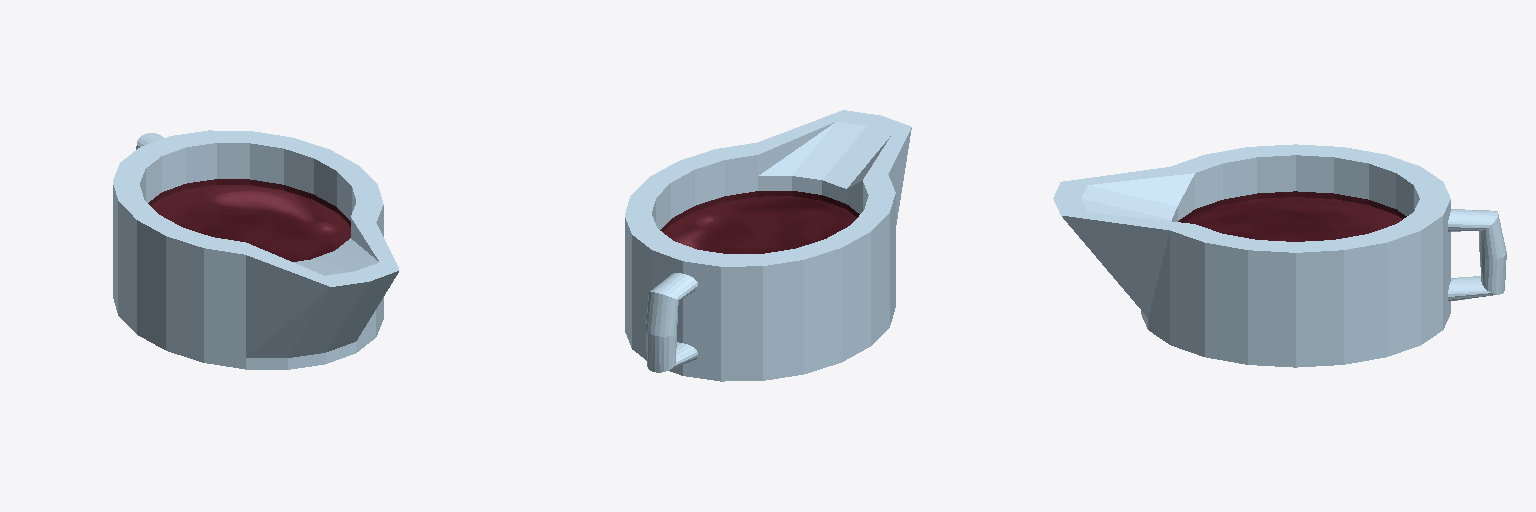
3 views of the same model, side by side, from view 1: azimuth 30°, elevation 25°; view 2: azimuth 150°, elevation 25°; view 3: azimuth 270°, elevation 25° (orthographic).
Parts seen in each view (by area): view 1: pCylinder3; view 2: pCylinder3; view 3: pCylinder3.
Part boxes in pixels (bbox=[...]): pCylinder3: bbox=[113, 130, 399, 369]; pCylinder3: bbox=[625, 110, 911, 381]; pCylinder3: bbox=[1053, 144, 1506, 367].
Bounding box in the file's own units: 1.47 × 0.7229 × 2.59.
Materials: 1 (1 with a texture image).